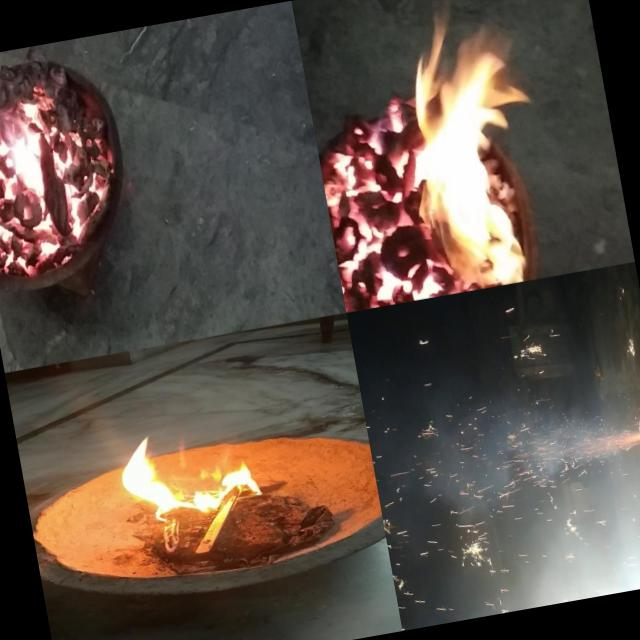fire: (303, 0, 554, 311), (0, 43, 116, 291), (105, 412, 277, 536), (509, 578, 536, 610)
